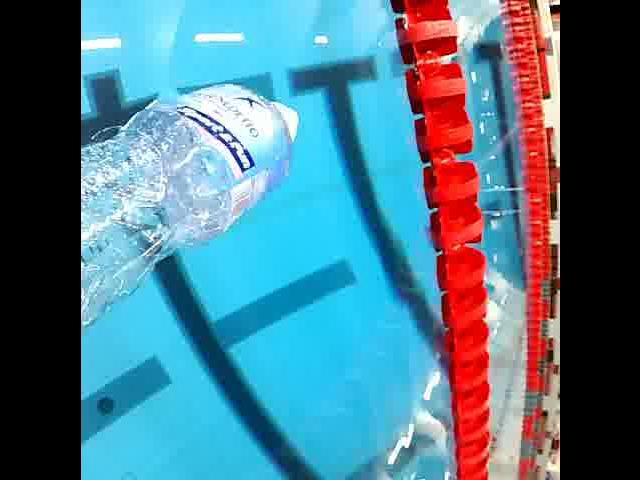Bottle: (80, 80, 308, 340)
